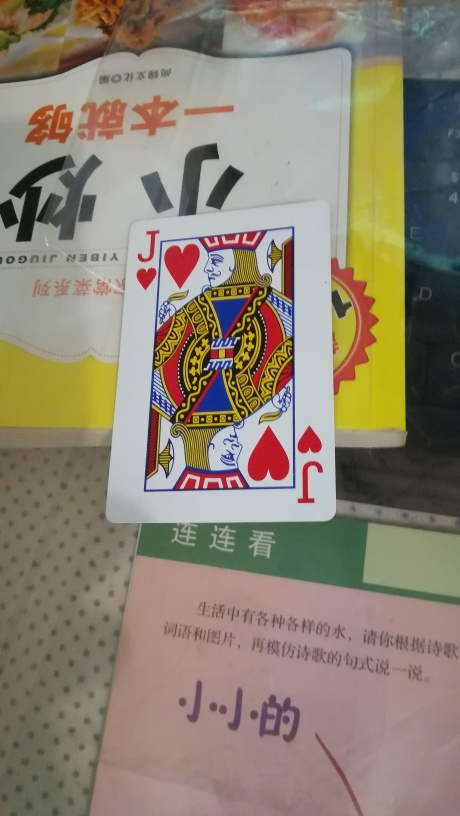hx j: (109, 202, 336, 525)
